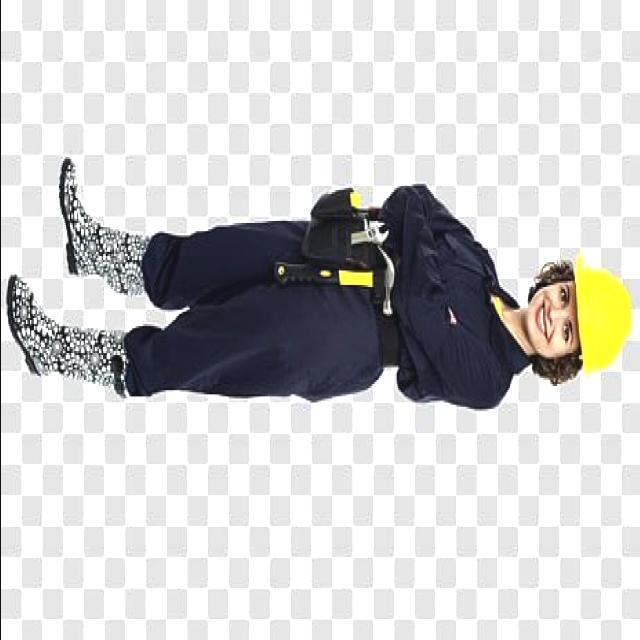Boots: (0, 154, 157, 402)
Hard Hat: (567, 248, 638, 386)
